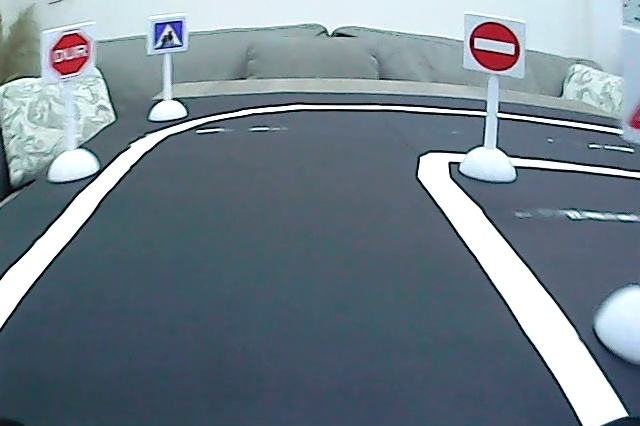do not enter: (466, 19, 524, 72)
school crossing: (151, 19, 185, 51)
stop sign: (44, 28, 92, 80)
